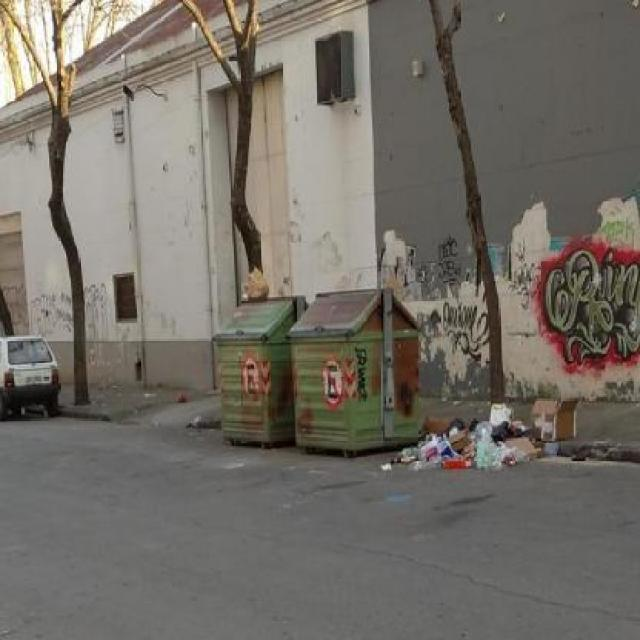garbage: (392, 391, 588, 472), (163, 383, 210, 438), (235, 265, 268, 312)
